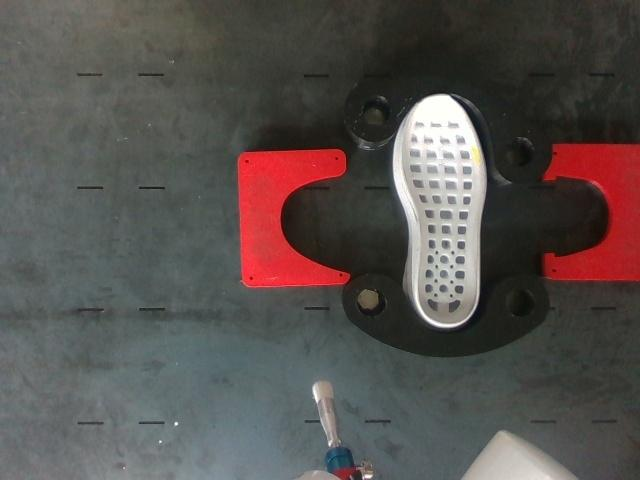shoes: (401, 96, 484, 325)
